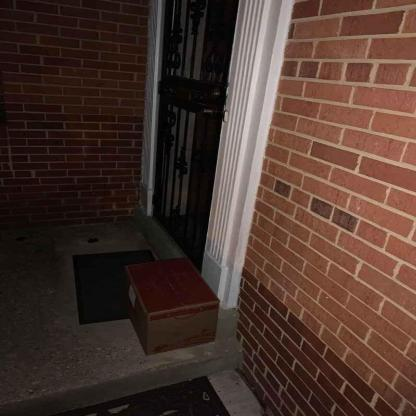package: (125, 254, 220, 355)
